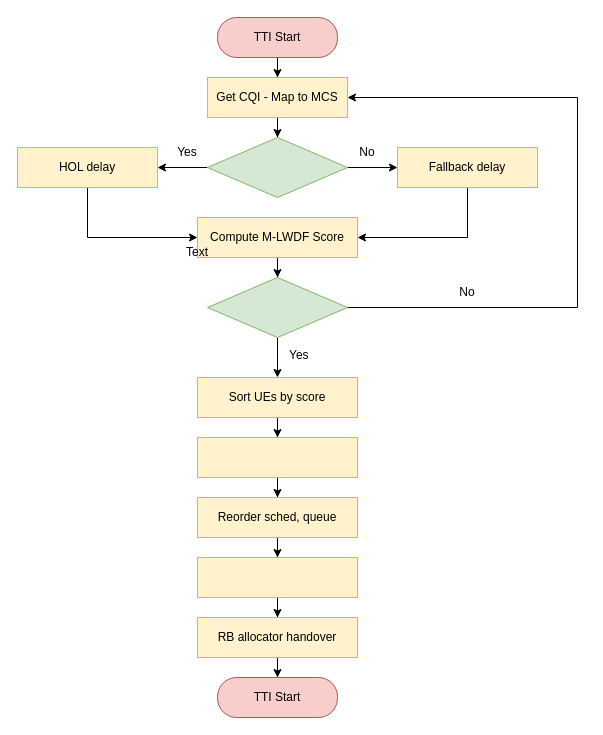
Image size: 603x735. Some labels were removed from this diagram. The shapes that lost their labels are listed below. From the top down, each one's centre as x and y in pixels, then its label:
At point 277,167: "HOL timestamp?".
At point 277,307: "All UEs done?".
At point 277,457: "Select top-ranked UE".
At point 277,577: "Update R_avg via EMA".
